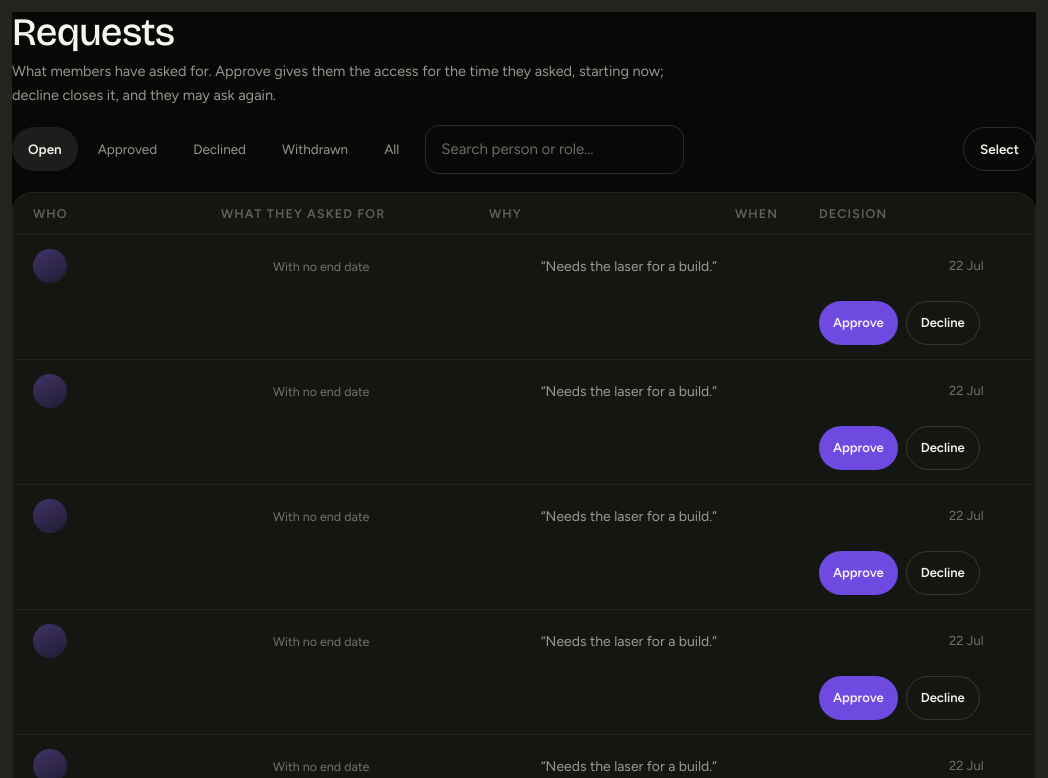
Test: the queue has a visible end › still selects the whole queue, not the page
Click the button "Select": [1000, 149] box left=963, top=127, right=1036, bottom=171
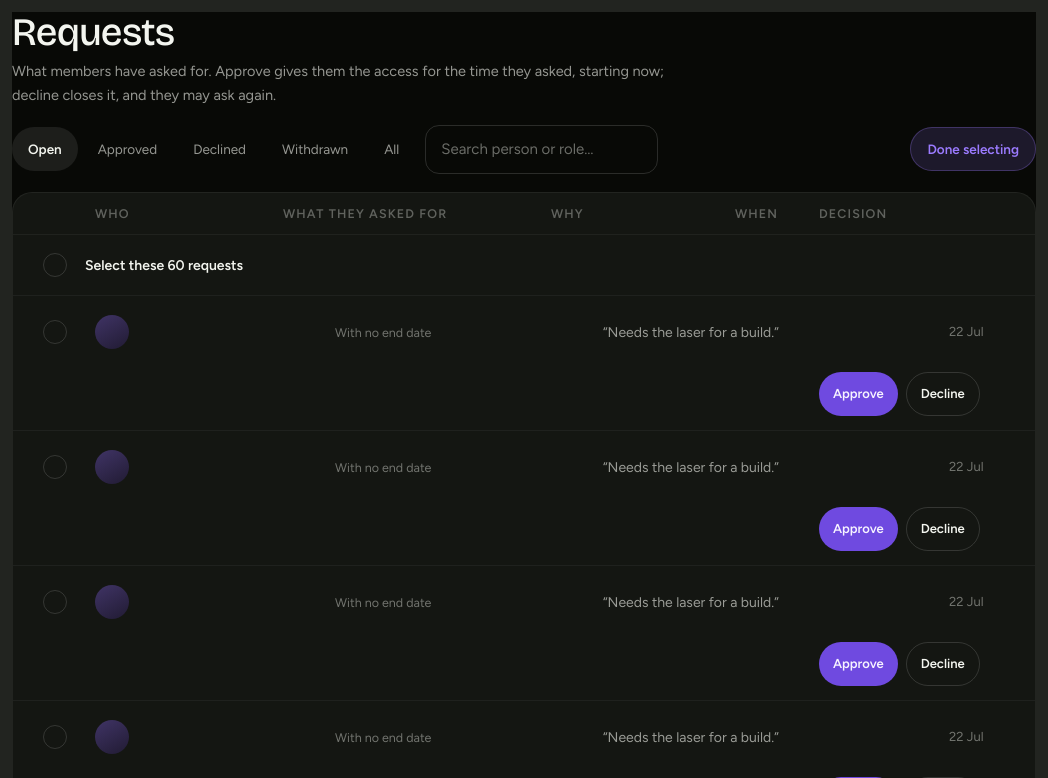
Click the 1st checkbox labelled "Select these 60 requests": [164, 265] box left=13, top=234, right=1035, bottom=295
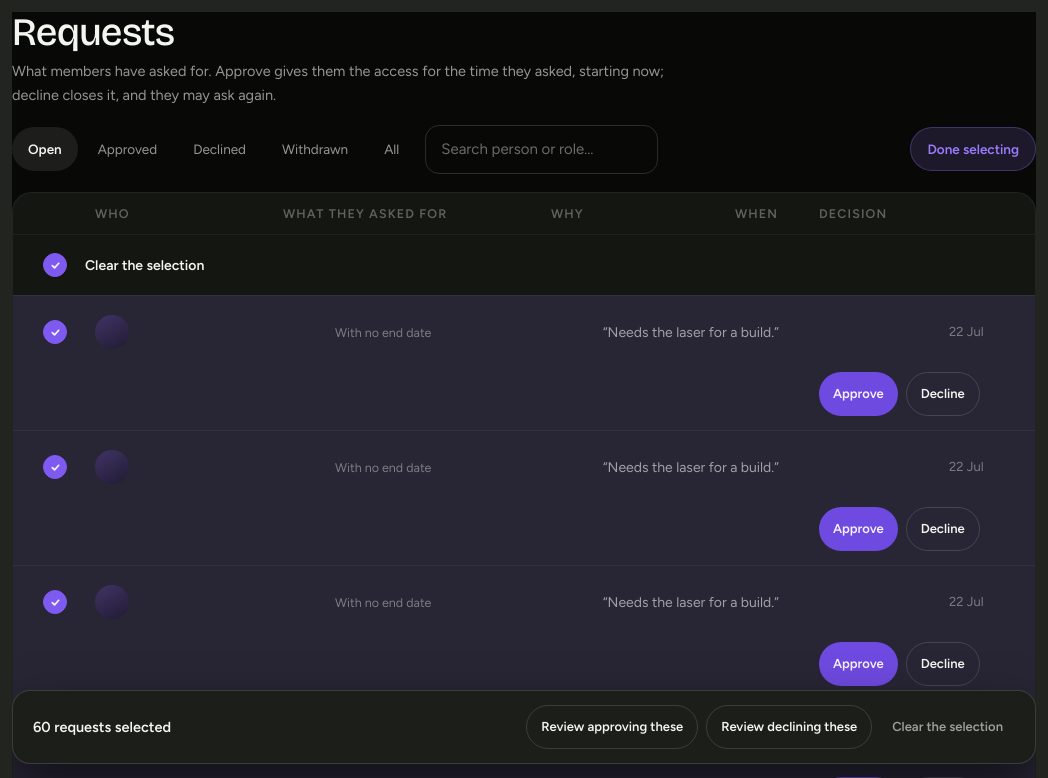
expect the text "60 requests selected" is shown: met, box left=33, top=718, right=171, bottom=736
